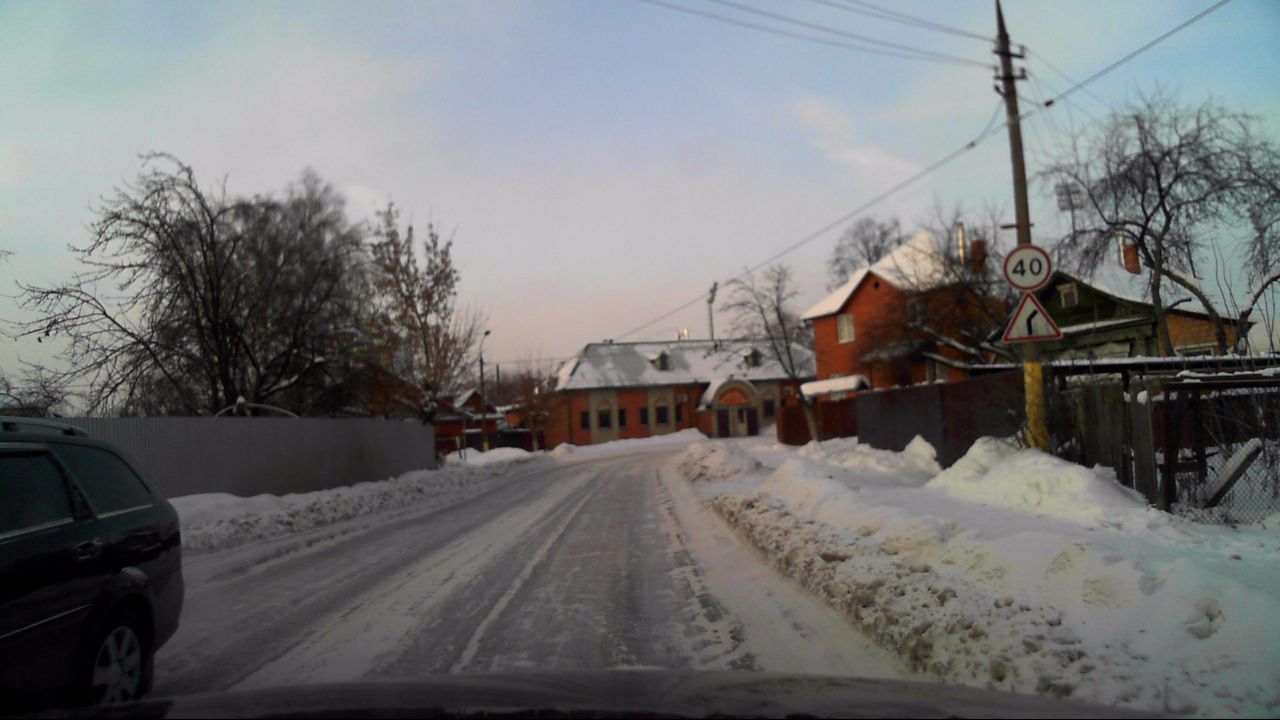speed_warning_40: (1003, 243, 1053, 291)
